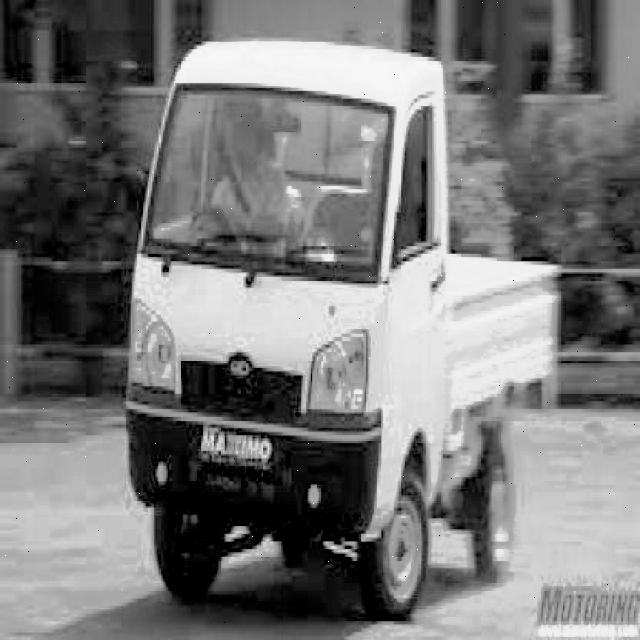LCV: (137, 31, 531, 576)
